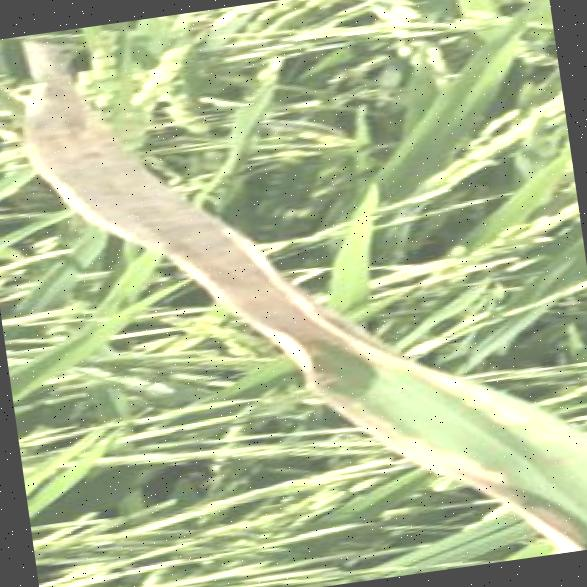Bacteria_Leaf_Blight: (287, 276, 587, 583)
